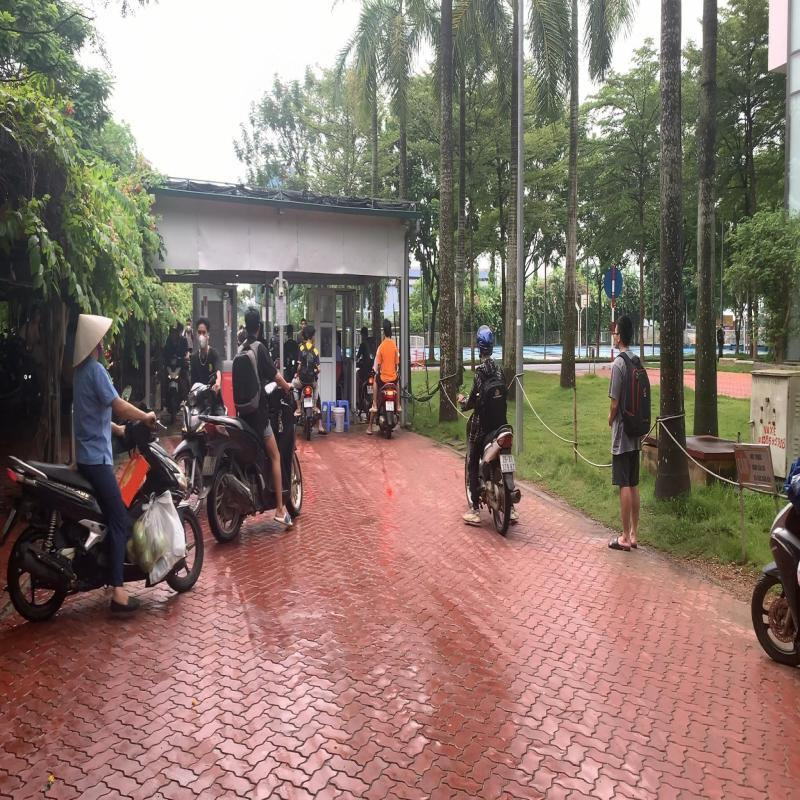nohelmet: (243, 304, 261, 339), (382, 318, 392, 338)
